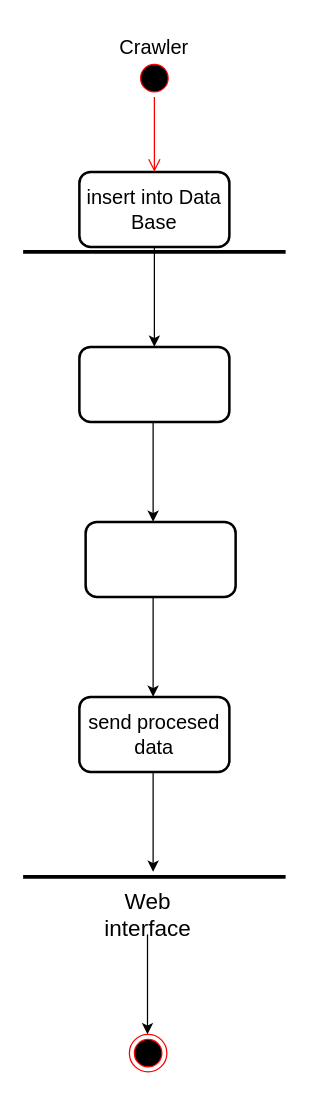
This 309x1094 diagram has some shape labels left out. The shapes that lost their labels are listed below. From the top down, each one's centre as x and y in pixels, then its label:
the point at 154,383: sentiment analyzer
the point at 160,559: generate statistics
